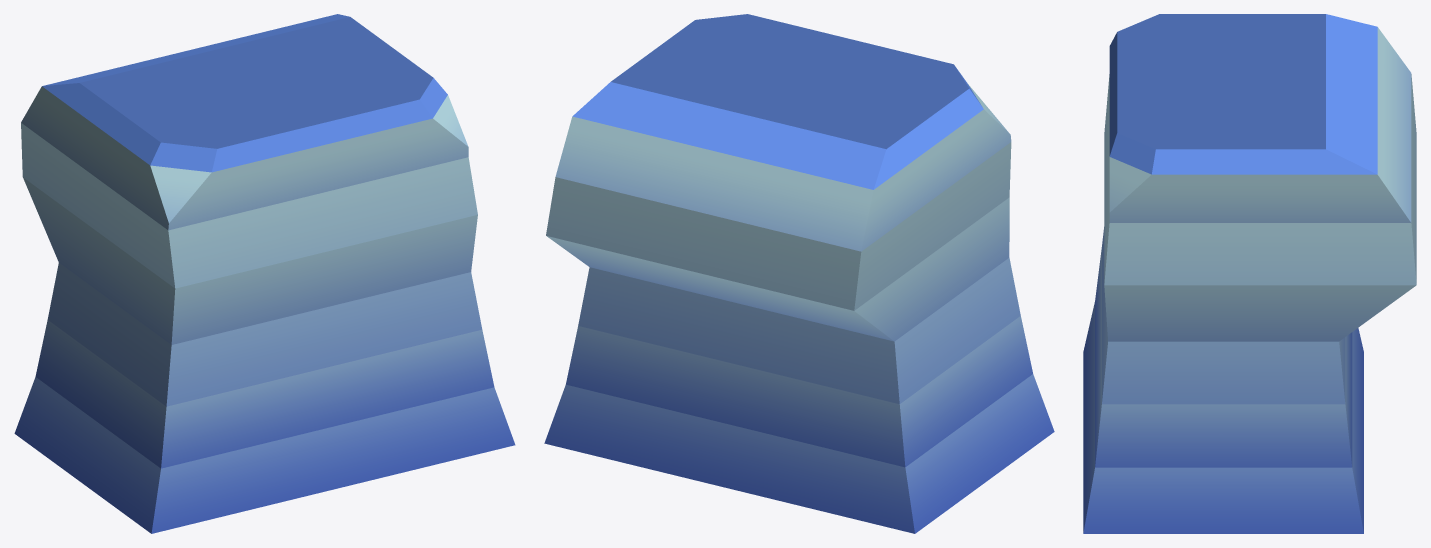
Rendered from StoneWall037.fbx.
The picture shows the model from 3 angles, left to right: view 1: azimuth 30°, elevation 25°; view 2: azimuth 150°, elevation 25°; view 3: azimuth 270°, elevation 25°; orthographic projection. The views are drawn at different scales.
Parts seen in each view (by area): view 1: StoneWall037; view 2: StoneWall037; view 3: StoneWall037.
Part boxes in pixels (x1,y1,x2,y2): StoneWall037: [14, 14, 515, 533]; StoneWall037: [544, 14, 1054, 533]; StoneWall037: [1083, 14, 1416, 533].
Bounding box in the file's own units: 482 × 446 × 373.
